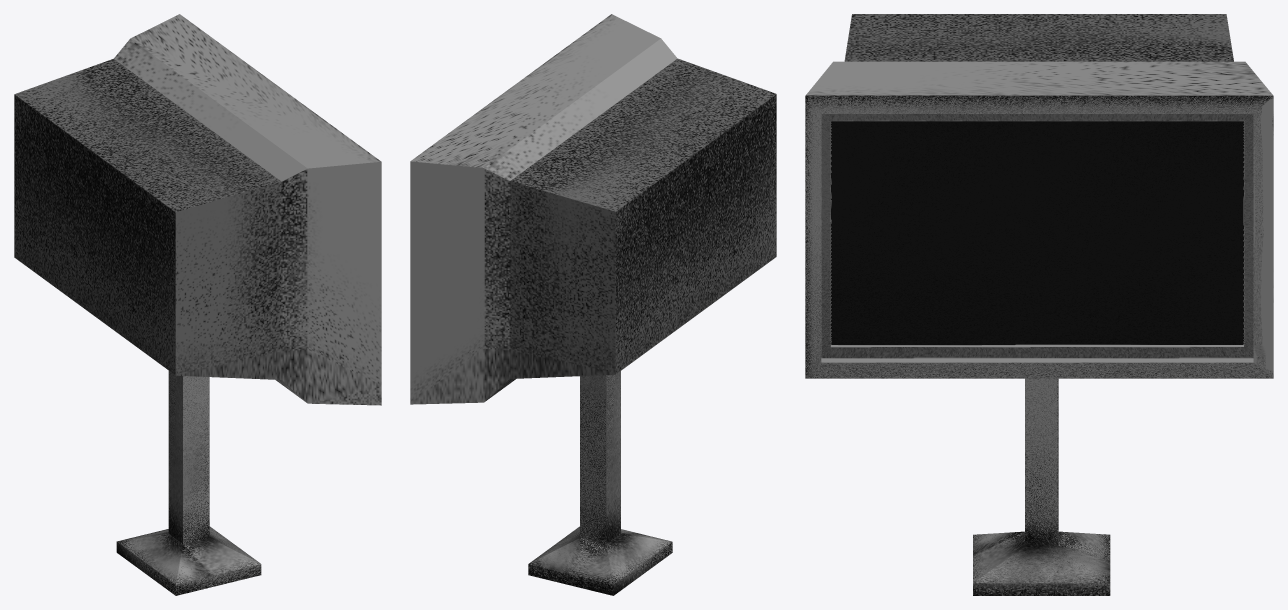
Rendered from monik_with_text.fbx.
3 renders of one model, left to right at view 1: azimuth 30°, elevation 25°; view 2: azimuth 150°, elevation 25°; view 3: azimuth 270°, elevation 25°, orthographic. The views are drawn at different scales.
Visible parts, largest first — view 1: monitor.002; view 2: monitor.002; view 3: monitor.002.
Part boxes in pixels (left/top/right/bottom): monitor.002: left=14, top=14, right=381, bottom=595; monitor.002: left=410, top=14, right=776, bottom=595; monitor.002: left=805, top=14, right=1273, bottom=595.
Size of the model in its own units: 486 by 604 by 258.
